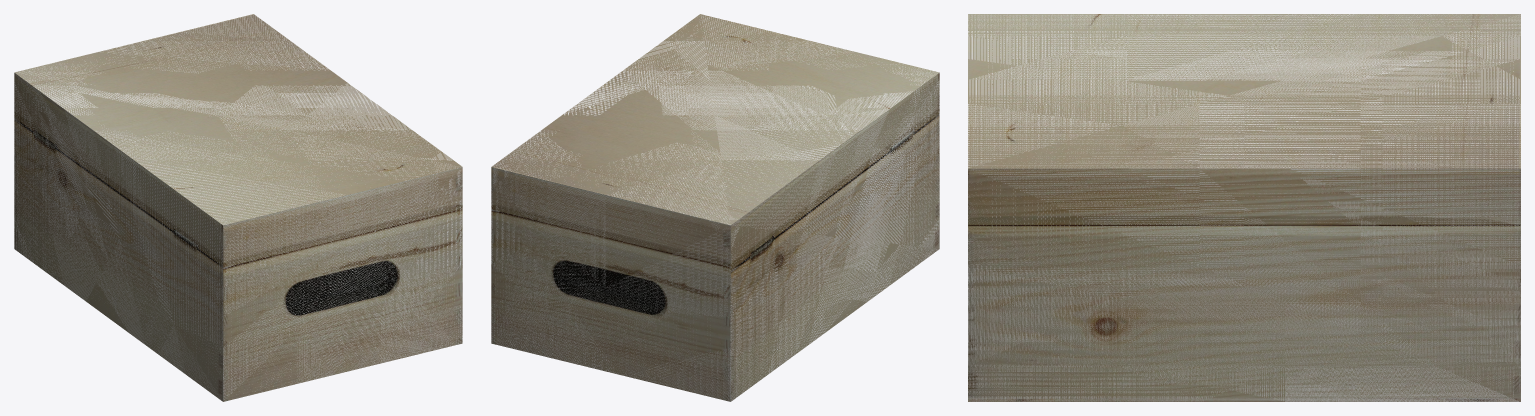
Rendered from box_wood.dae.
3 views of the same model, side by side, from view 1: azimuth 30°, elevation 25°; view 2: azimuth 150°, elevation 25°; view 3: azimuth 270°, elevation 25° (orthographic). The views are drawn at different scales.
Visible parts, largest first — view 1: SketchUp (×3); view 2: SketchUp (×3); view 3: SketchUp (×2).
Boxes of the visible parts, box(x1,y1,x2,y2) form: SketchUp (×3): box(14, 14, 462, 401); SketchUp (×3): box(491, 14, 939, 401); SketchUp (×2): box(968, 14, 1520, 401).
Bounding box in the file's own units: 0.1983 × 0.2995 × 0.1396.
6 materials, 5 textured.
